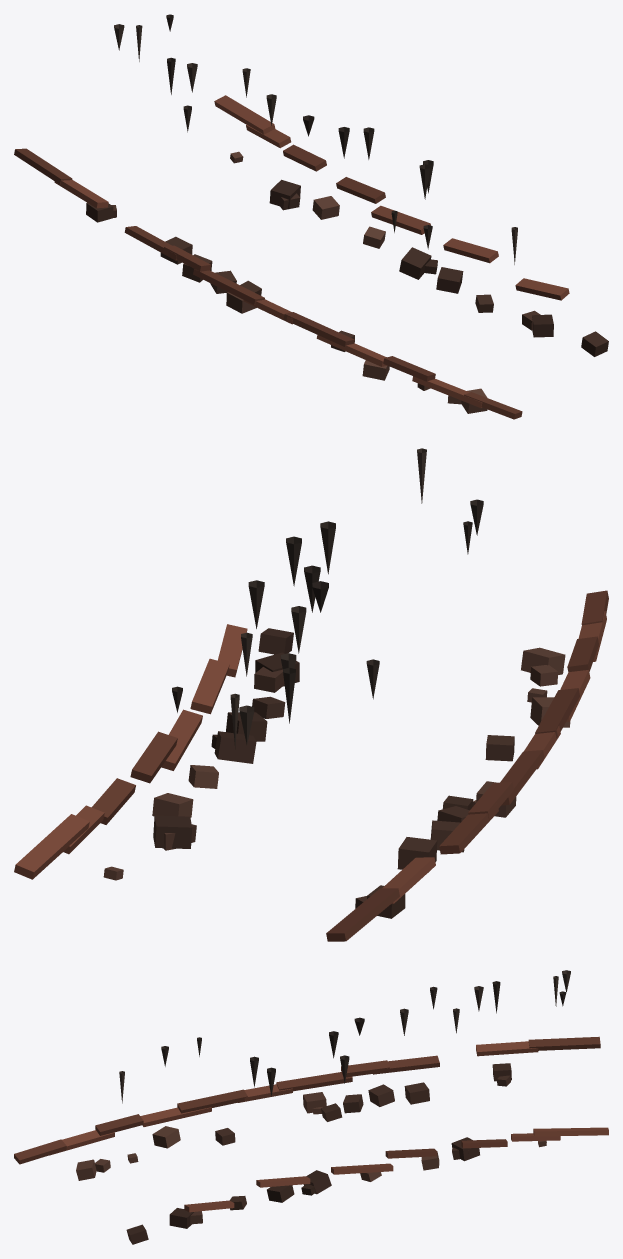
File: lava_tube_run_bend_p30_detail1.glb
3 renders of one model, top to bottom at view 1: azimuth 30°, elevation 25°; view 2: azimuth 150°, elevation 25°; view 3: azimuth 270°, elevation 25°, orthographic. The views are drawn at different scales.
Parts seen in each view (by area): view 1: lava_tube_run_bend_p30_detail1; view 2: lava_tube_run_bend_p30_detail1; view 3: lava_tube_run_bend_p30_detail1.
Part boxes in pixels (bbox=[...]): lava_tube_run_bend_p30_detail1: bbox=[14, 14, 608, 419]; lava_tube_run_bend_p30_detail1: bbox=[14, 448, 608, 941]; lava_tube_run_bend_p30_detail1: bbox=[14, 970, 608, 1244].
Bounding box in the file's own units: 23.78 × 14.12 × 43.77.
